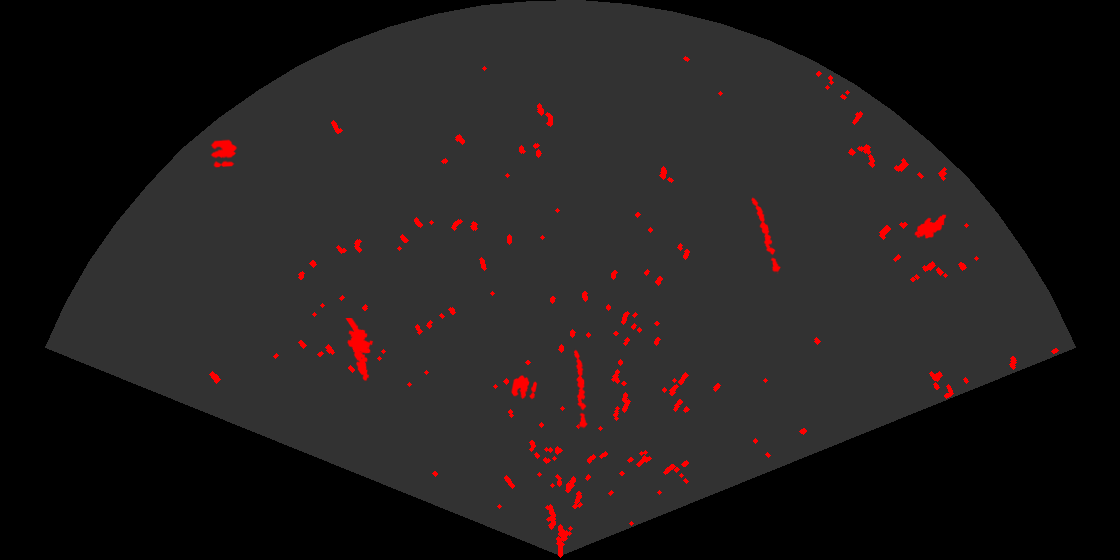AUV: (913, 213, 948, 240)
ball: (209, 138, 239, 169), (510, 374, 539, 401)
chain: (750, 195, 782, 274), (572, 348, 589, 429)
frogman: (344, 318, 375, 383)
